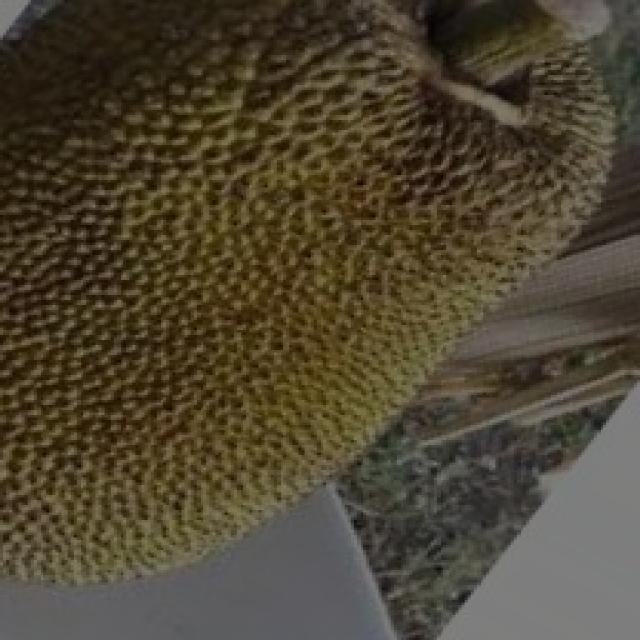Fruit: (0, 0, 409, 368), (261, 0, 640, 340)
